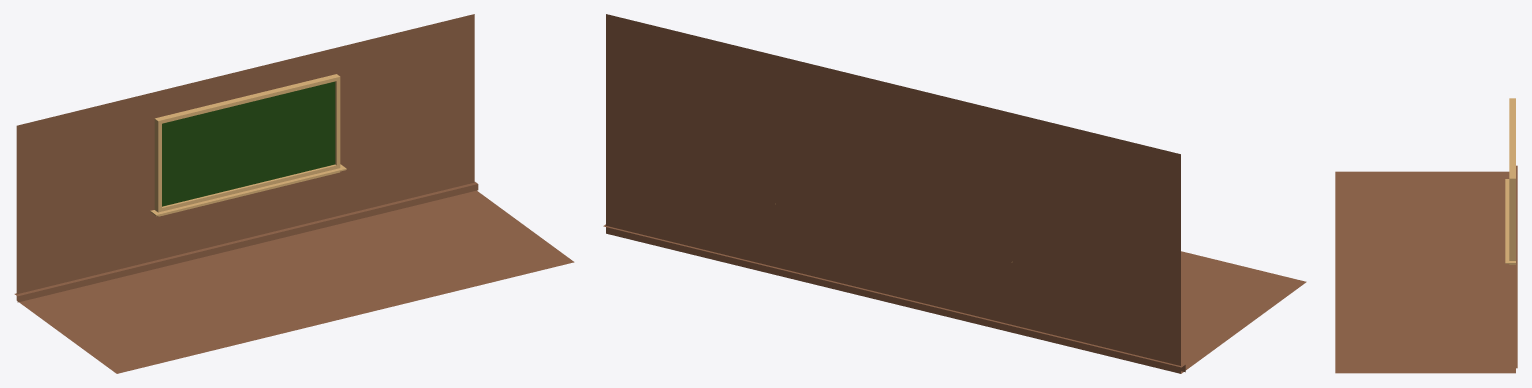
Rendered from BackgroundTEMP.fbx.
3 renders of one model, left to right at view 1: azimuth 30°, elevation 25°; view 2: azimuth 150°, elevation 25°; view 3: azimuth 270°, elevation 25°, orthographic. The views are drawn at different scales.
Parts seen in each view (by area): view 1: Wall/Floor, Board.001, Wood board; view 2: Wall/Floor, Wood board; view 3: Wall/Floor, Board.001, Wood board.
Part boxes in pixels (x1=…): Wall/Floor: x1=16, y1=14, x2=574, y2=373; Board.001: x1=150, y1=74, x2=346, y2=216; Wood board: x1=14, y1=182, x2=478, y2=302; Wall/Floor: x1=606, y1=14, x2=1306, y2=373; Wood board: x1=603, y1=224, x2=1185, y2=372; Wall/Floor: x1=1335, y1=171, x2=1515, y2=373; Board.001: x1=1505, y1=98, x2=1515, y2=264; Wood board: x1=1512, y1=165, x2=1517, y2=368.
Bounding box in the file's own units: 9.15 × 3.32 × 3.48.
